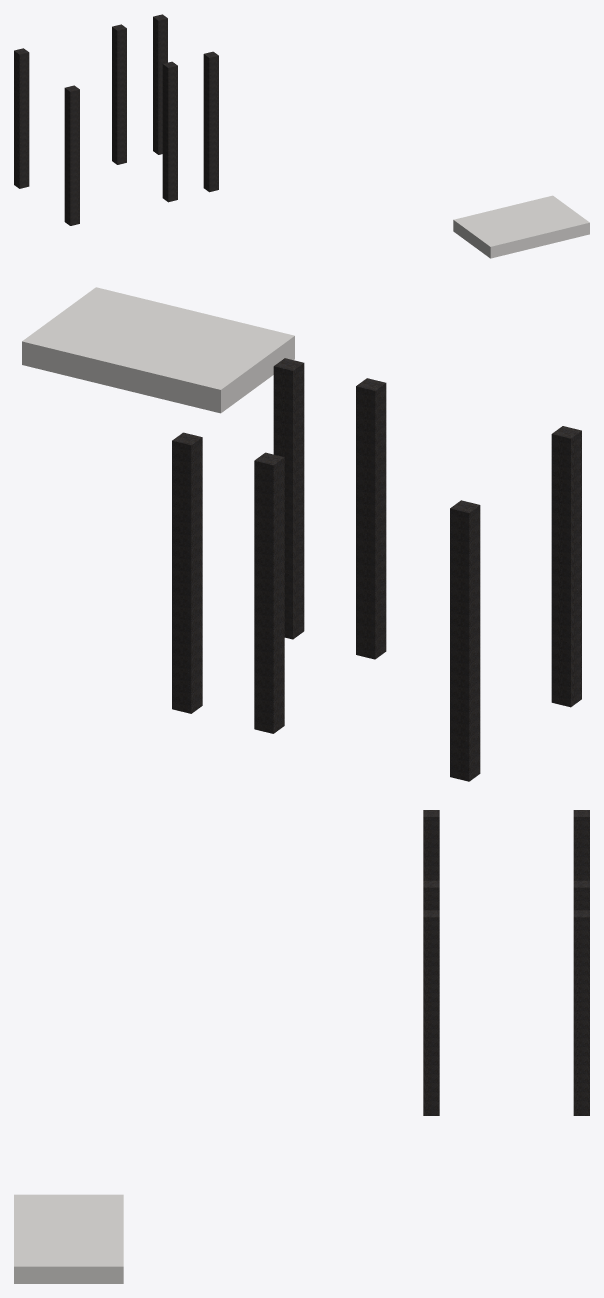
3 renders of one model, top to bottom at view 1: azimuth 30°, elevation 25°; view 2: azimuth 150°, elevation 25°; view 3: azimuth 270°, elevation 25°, orthographic. The views are drawn at different scales.
Parts seen in each view (by area): view 1: Footing-Rectangular 2000 x3100 x 350mm 3 [683298]001, Columns_Rectangular 300 x 300 mm [683734]001, Columns_Rectangular 300 x 300 mm [684578]001, Columns_Rectangular 300 x 300 mm [684483]001, Columns_Rectangular 300 x 300 mm [684236]001, Columns_Rectangular 300 x 300 mm [684058]001, Columns_Rectangular 300 x 300 mm [684173]001; view 2: Footing-Rectangular 2000 x3100 x 350mm 3 [683298]001, Columns_Rectangular 300 x 300 mm [683734]001, Columns_Rectangular 300 x 300 mm [684173]001, Columns_Rectangular 300 x 300 mm [684058]001, Columns_Rectangular 300 x 300 mm [684483]001, Columns_Rectangular 300 x 300 mm [684236]001, Columns_Rectangular 300 x 300 mm [684578]001; view 3: Footing-Rectangular 2000 x3100 x 350mm 3 [683298]001, Columns_Rectangular 300 x 300 mm [684173]001, Columns_Rectangular 300 x 300 mm [684578]001, Columns_Rectangular 300 x 300 mm [683734]001, Columns_Rectangular 300 x 300 mm [684236]001.
Boxes of the visible parts, x1,y1,x2,y2 form: Footing-Rectangular 2000 x3100 x 350mm 3 [683298]001: (453,195,589,258); Columns_Rectangular 300 x 300 mm [683734]001: (14,48,29,188); Columns_Rectangular 300 x 300 mm [684578]001: (203,51,218,192); Columns_Rectangular 300 x 300 mm [684483]001: (162,61,177,202); Columns_Rectangular 300 x 300 mm [684236]001: (64,85,79,225); Columns_Rectangular 300 x 300 mm [684058]001: (112,24,126,164); Columns_Rectangular 300 x 300 mm [684173]001: (153,14,167,154); Footing-Rectangular 2000 x3100 x 350mm 3 [683298]001: (22,287,294,413); Columns_Rectangular 300 x 300 mm [683734]001: (450,500,480,781); Columns_Rectangular 300 x 300 mm [684173]001: (172,432,202,713); Columns_Rectangular 300 x 300 mm [684058]001: (254,452,284,733); Columns_Rectangular 300 x 300 mm [684483]001: (356,378,386,659); Columns_Rectangular 300 x 300 mm [684236]001: (551,426,581,707); Columns_Rectangular 300 x 300 mm [684578]001: (273,358,304,639); Footing-Rectangular 2000 x3100 x 350mm 3 [683298]001: (14,1194,123,1283); Columns_Rectangular 300 x 300 mm [684173]001: (573,910,589,1115); Columns_Rectangular 300 x 300 mm [684578]001: (423,910,439,1115); Columns_Rectangular 300 x 300 mm [683734]001: (573,810,589,880); Columns_Rectangular 300 x 300 mm [684236]001: (423,810,439,880).
Bounding box in the file's own units: 11.88 × 4 × 10.51.
2 materials, 1 textured.
